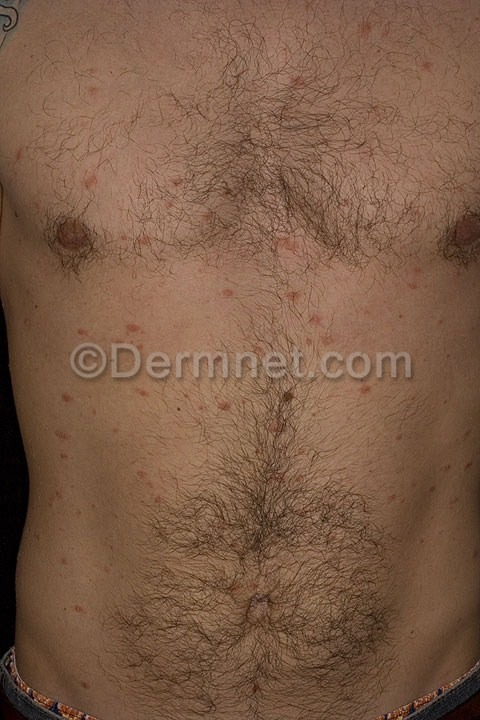Psoriasis: (411, 420, 480, 568), (35, 383, 94, 537), (377, 256, 449, 328), (282, 279, 353, 351), (123, 447, 179, 522), (82, 310, 162, 357), (75, 162, 132, 213), (336, 16, 397, 49), (180, 387, 239, 420), (262, 222, 311, 259), (116, 224, 159, 257), (59, 593, 99, 624), (208, 282, 247, 306), (8, 140, 37, 172), (349, 376, 385, 401)
